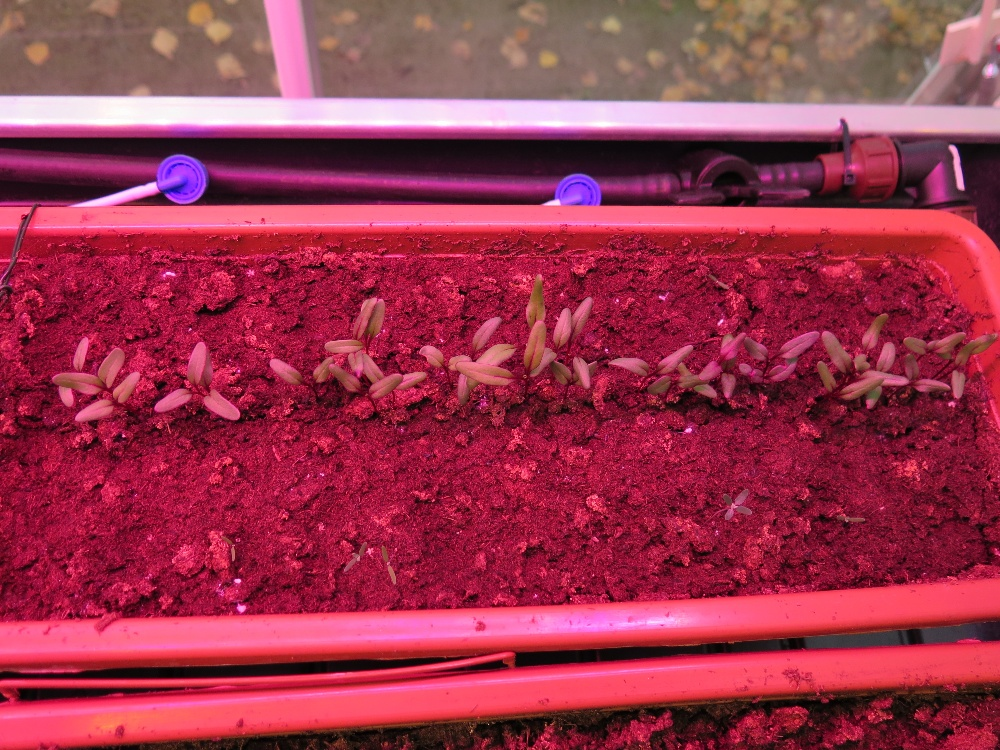crop: (510, 269, 601, 406), (415, 314, 515, 413), (149, 334, 249, 430), (607, 334, 723, 416), (809, 322, 906, 419), (709, 319, 825, 398), (54, 336, 141, 430), (334, 344, 435, 420), (859, 331, 950, 414), (923, 316, 1000, 413), (324, 291, 385, 369), (268, 350, 337, 398)
weed: (719, 484, 756, 525), (375, 544, 406, 588), (341, 541, 370, 575), (831, 508, 870, 531), (214, 527, 241, 559), (705, 267, 728, 291)
